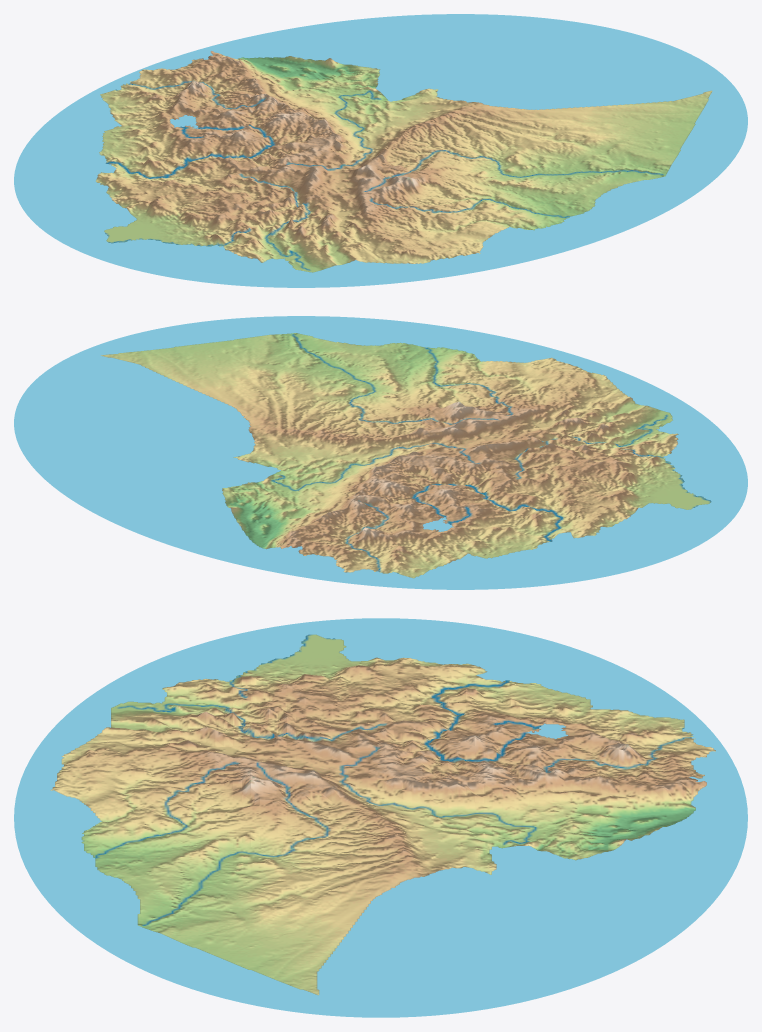
The model's file is ETH-terrain.glb.
3 renders of one model, top to bottom at view 1: azimuth 30°, elevation 25°; view 2: azimuth 150°, elevation 25°; view 3: azimuth 270°, elevation 25°, orthographic. The views are drawn at different scales.
Visible parts, largest first — view 1: Relevo com hidrografia; view 2: Relevo com hidrografia; view 3: Relevo com hidrografia.
Part boxes in pixels (box(x1,y1,x2,y2)): Relevo com hidrografia: box(14, 14, 747, 287); Relevo com hidrografia: box(14, 316, 747, 589); Relevo com hidrografia: box(14, 618, 747, 1017).
Size of the model in its own units: 1.77 by 0.0475 by 1.37.
Materials: 2 (1 with a texture image).
